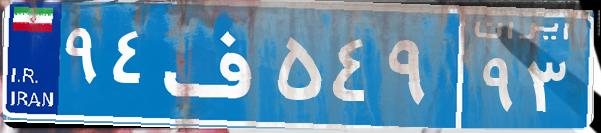3: (525, 38, 570, 115)
4: (330, 28, 385, 110), (110, 28, 158, 105)
5: (273, 28, 330, 110)
9: (385, 28, 445, 110), (57, 26, 110, 107), (475, 38, 525, 113)
ف: (158, 15, 273, 115)
